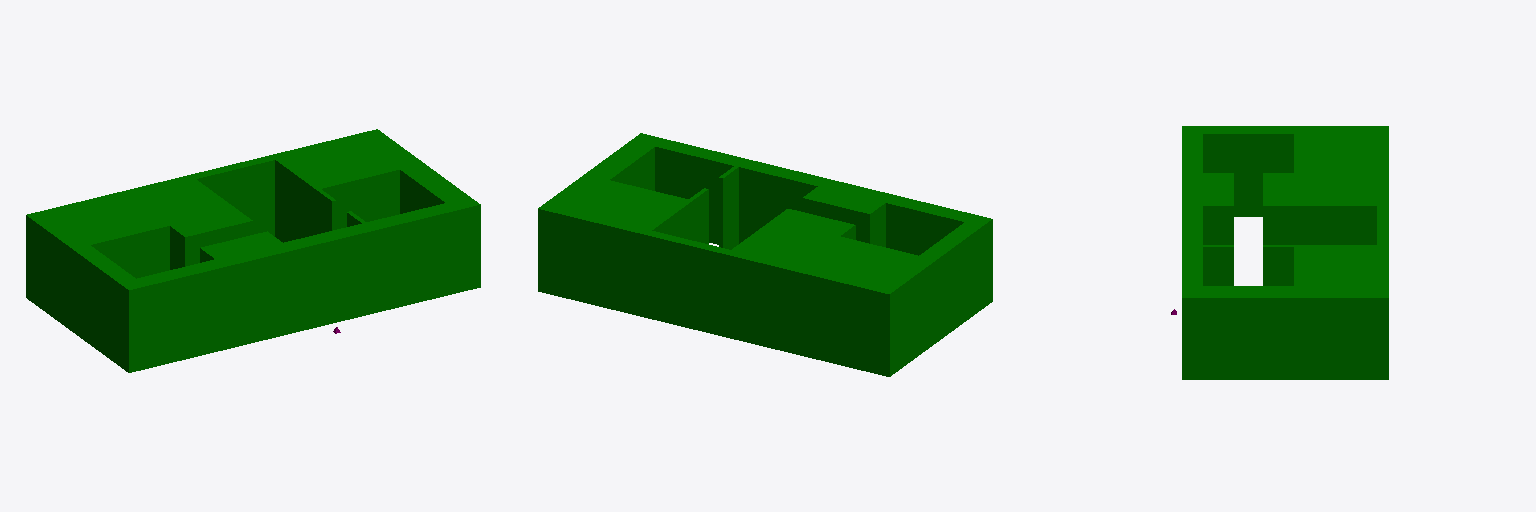
The model's file is TestLevel3_CollisionMesh.obj.
3 views of the same model, side by side, from view 1: azimuth 30°, elevation 25°; view 2: azimuth 150°, elevation 25°; view 3: azimuth 270°, elevation 25° (orthographic).
Parts seen in each view (by area): view 1: pCube4; view 2: pCube4; view 3: pCube4.
Boxes of the visible parts, box(x1,y1,x2,y2) form: pCube4: box(26, 129, 480, 372); pCube4: box(538, 133, 992, 376); pCube4: box(1182, 126, 1388, 379).
Bounding box in the file's own units: 65.58 × 15.76 × 35.11.